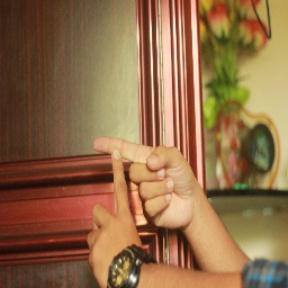T: (79, 133, 178, 265)
